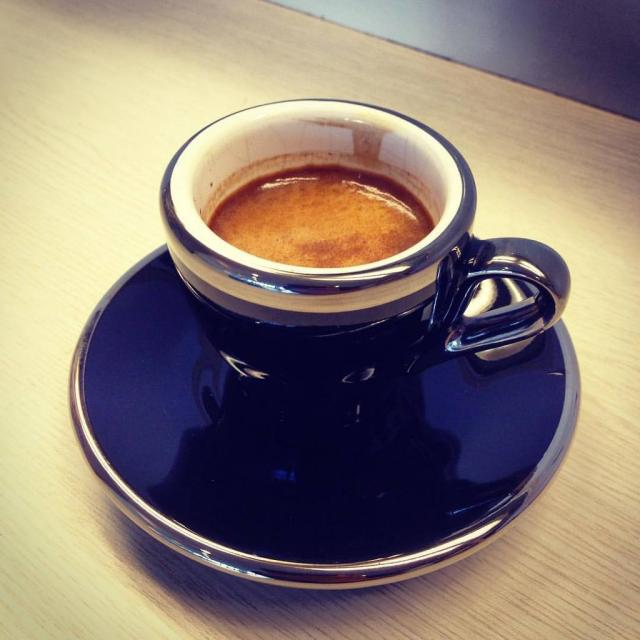Coffee: (209, 161, 434, 267)
Tea: (200, 128, 430, 272)
